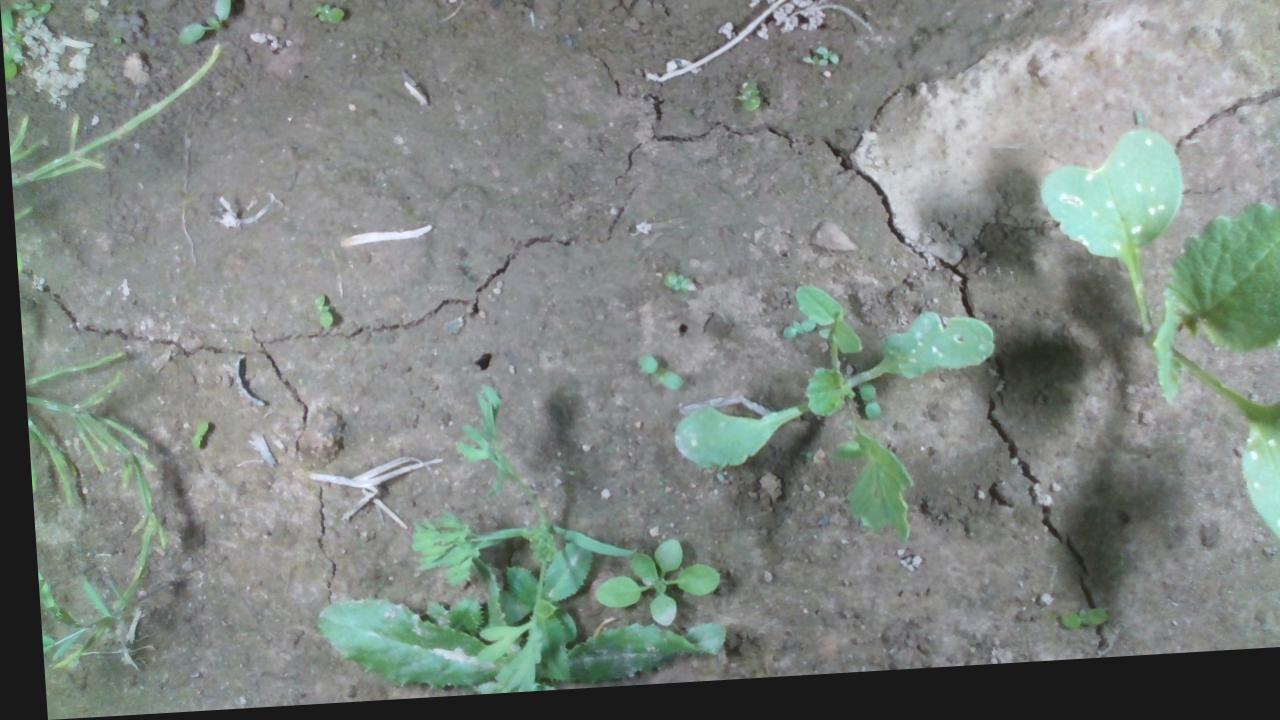weed: (172, 0, 232, 48), (627, 359, 678, 400), (1047, 615, 1099, 643), (304, 2, 346, 28), (656, 276, 692, 303), (735, 85, 759, 120), (306, 295, 328, 332), (181, 419, 203, 450)
